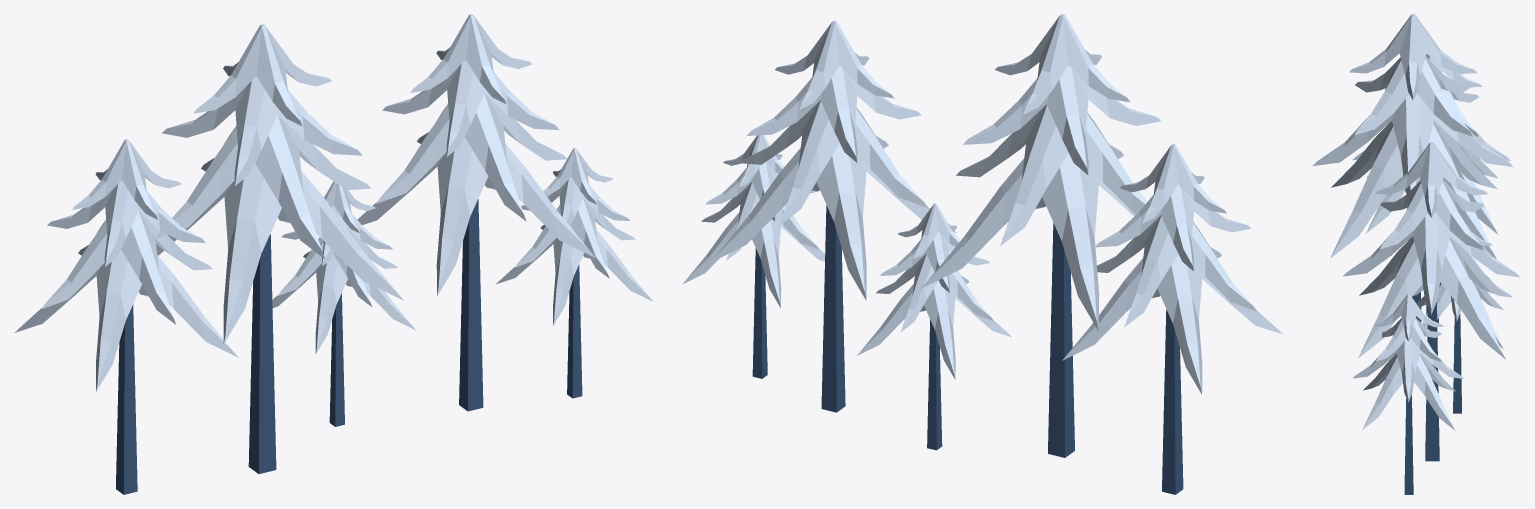
File: Asset_BlockSnow_Trees_01.fbx
The picture shows the model from 3 angles, left to right: view 1: azimuth 30°, elevation 25°; view 2: azimuth 150°, elevation 25°; view 3: azimuth 270°, elevation 25°; orthographic projection. The views are drawn at different scales.
Parts seen in each view (by area): view 1: PolySurface_TreeSnow_01, PolySurface_TreeSnow_07, PolySurface_TreeSnow_06, PolySurface_TreeSnow_02, PolySurface_TreeSnow_03; view 2: PolySurface_TreeSnow_01, PolySurface_TreeSnow_07, PolySurface_TreeSnow_06, PolySurface_TreeSnow_03, PolySurface_TreeSnow_02; view 3: PolySurface_TreeSnow_01, PolySurface_TreeSnow_07, PolySurface_TreeSnow_02, PolySurface_TreeSnow_06, PolySurface_TreeSnow_03.
Boxes of the visible parts, x1,y1,x2,y2 form: PolySurface_TreeSnow_01: [155, 24, 403, 473]; PolySurface_TreeSnow_07: [357, 14, 596, 411]; PolySurface_TreeSnow_06: [14, 139, 238, 494]; PolySurface_TreeSnow_02: [495, 148, 653, 398]; PolySurface_TreeSnow_03: [272, 181, 415, 426]; PolySurface_TreeSnow_01: [921, 14, 1160, 457]; PolySurface_TreeSnow_07: [710, 20, 957, 412]; PolySurface_TreeSnow_06: [1062, 144, 1283, 494]; PolySurface_TreeSnow_03: [857, 203, 1011, 450]; PolySurface_TreeSnow_02: [682, 135, 825, 378]; PolySurface_TreeSnow_01: [1312, 14, 1513, 322]; PolySurface_TreeSnow_07: [1343, 142, 1520, 461]; PolySurface_TreeSnow_02: [1353, 294, 1463, 494]; PolySurface_TreeSnow_06: [1352, 54, 1510, 323]; PolySurface_TreeSnow_03: [1413, 220, 1512, 413].
Size of the model in its own units: 207 by 152 by 80.28.
